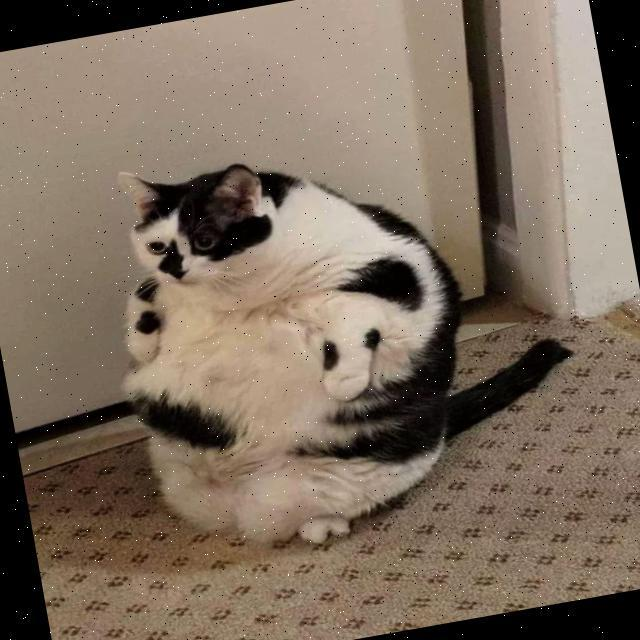Cats: (90, 113, 498, 570)
